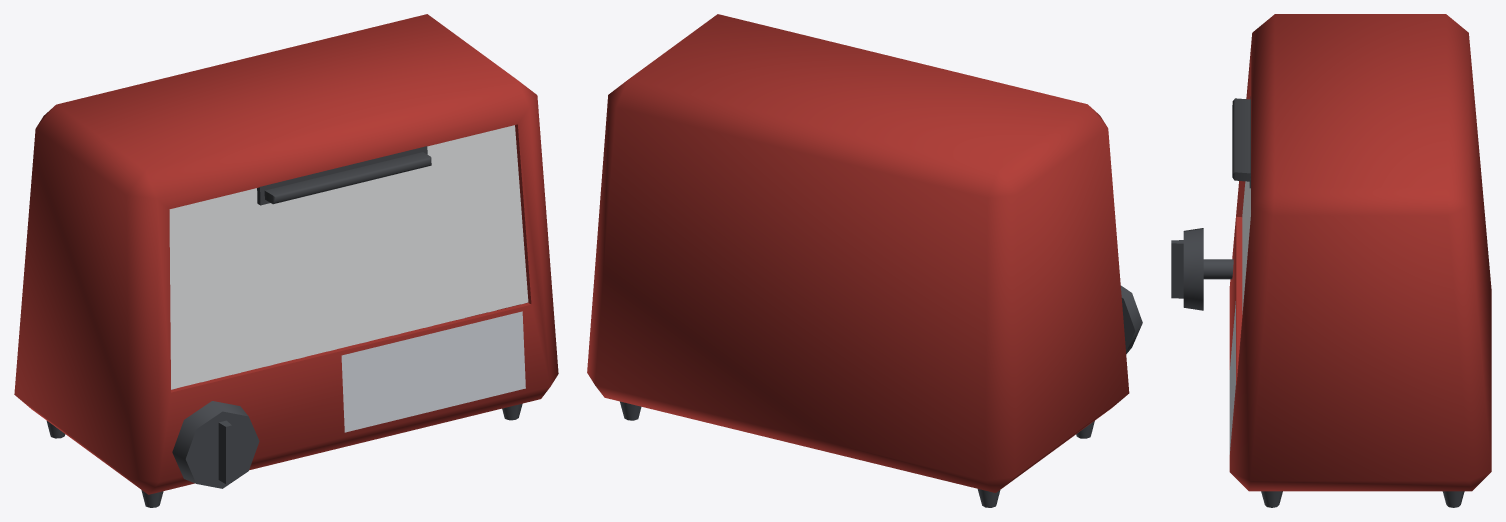
File: Toaster_Oven.glb
3 views of the same model, side by side, from view 1: azimuth 30°, elevation 25°; view 2: azimuth 150°, elevation 25°; view 3: azimuth 270°, elevation 25° (orthographic). The views are drawn at different scales.
Parts seen in each view (by area): view 1: appliance_toaster_oven_Cube.265, appliance_toaster_oven_door_Cube.266, appliance_toaster_oven_knob_Cube.267; view 2: appliance_toaster_oven_Cube.265, appliance_toaster_oven_knob_Cube.267; view 3: appliance_toaster_oven_Cube.265, appliance_toaster_oven_knob_Cube.267, appliance_toaster_oven_door_Cube.266.
Boxes of the visible parts, <box> form: appliance_toaster_oven_Cube.265: <box>14,14,558,507</box>; appliance_toaster_oven_door_Cube.266: <box>169,125,528,389</box>; appliance_toaster_oven_knob_Cube.267: <box>172,401,259,488</box>; appliance_toaster_oven_Cube.265: <box>587,14,1129,507</box>; appliance_toaster_oven_knob_Cube.267: <box>1120,285,1142,353</box>; appliance_toaster_oven_Cube.265: <box>1229,14,1491,507</box>; appliance_toaster_oven_knob_Cube.267: <box>1171,228,1233,310</box>; appliance_toaster_oven_door_Cube.266: <box>1232,96,1250,314</box>.
Bounding box in the file's own units: 9.19 × 6.85 × 6.2.
2 materials, 2 textured.
